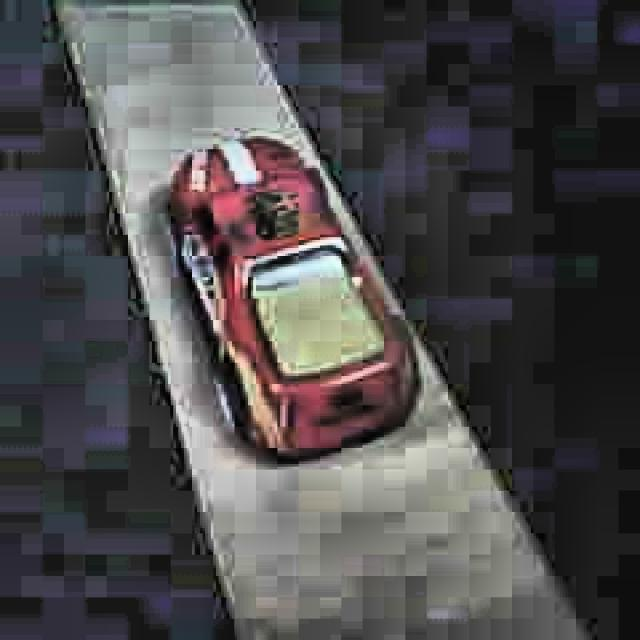car: (162, 130, 425, 470)
